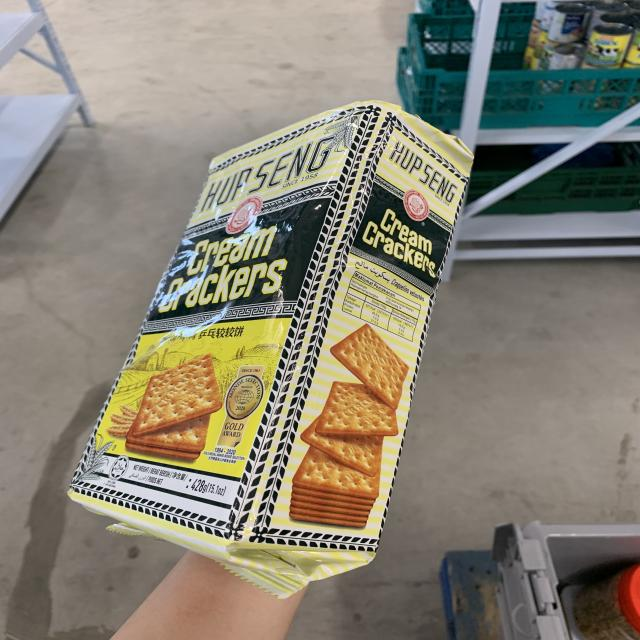object_name: (74, 118, 440, 527)
